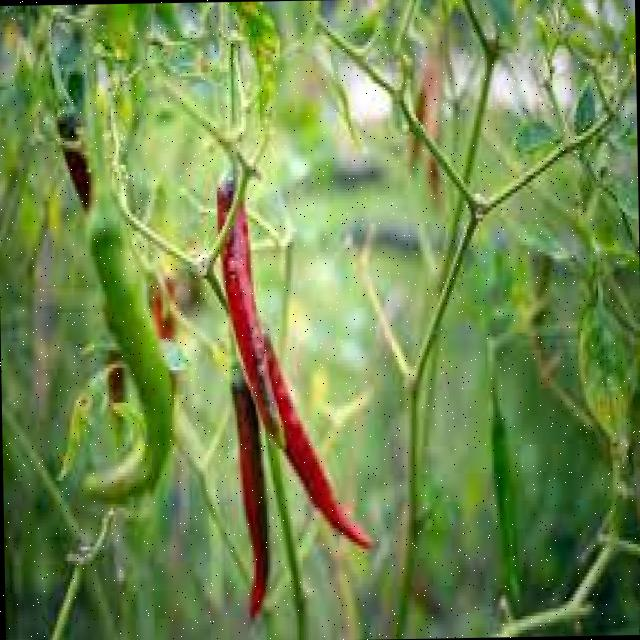chili: (216, 180, 233, 226)
